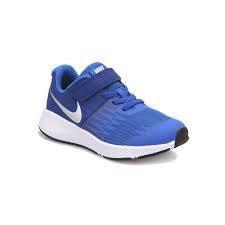nike: (45, 91, 84, 126)
